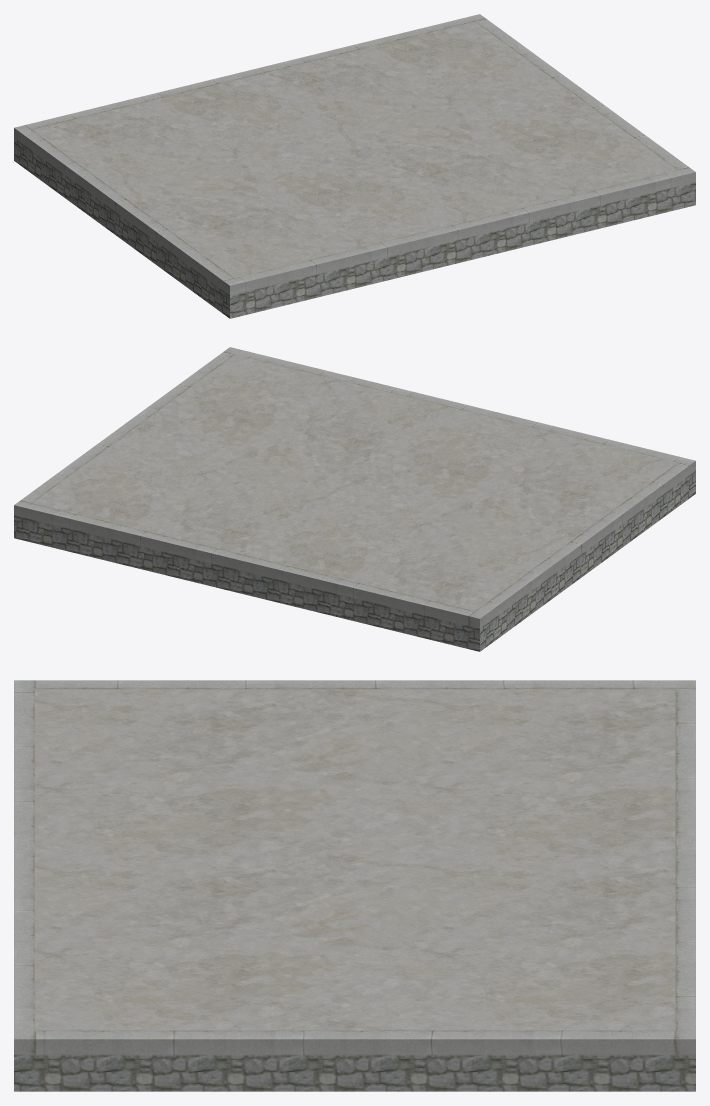
Rendered from SM_Sun_Dae_Kidan.fbx.
The picture shows the model from 3 angles, top to bottom: view 1: azimuth 30°, elevation 25°; view 2: azimuth 150°, elevation 25°; view 3: azimuth 270°, elevation 25°; orthographic projection. The views are drawn at different scales.
Parts seen in each view (by area): view 1: SM_Sun_Dae_Kidan; view 2: SM_Sun_Dae_Kidan; view 3: SM_Sun_Dae_Kidan.
Part boxes in pixels (box(x1,y1,x2,y2)): SM_Sun_Dae_Kidan: box(14, 14, 695, 318); SM_Sun_Dae_Kidan: box(14, 347, 695, 651); SM_Sun_Dae_Kidan: box(14, 680, 695, 1091).
Bounding box in the file's own units: 1835 × 124 × 1474.
